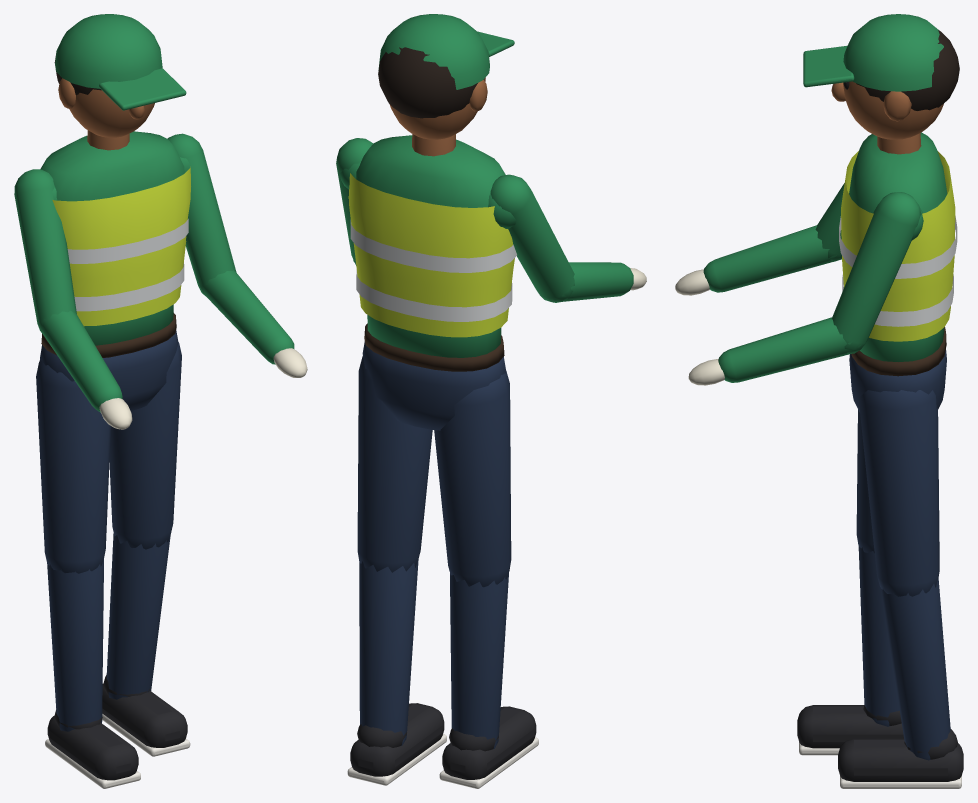
Rendered from picker_a.fbx.
The picture shows the model from 3 angles, left to right: view 1: azimuth 30°, elevation 25°; view 2: azimuth 150°, elevation 25°; view 3: azimuth 270°, elevation 25°; orthographic projection. The views are drawn at different scales.
Parts seen in each view (by area): view 1: picker_a; view 2: picker_a; view 3: picker_a.
Part boxes in pixels (x1,y1,x2,y2): picker_a: (14, 14, 307, 788); picker_a: (336, 14, 646, 788); picker_a: (675, 14, 963, 788).
Size of the model in its own units: 0.531 by 1.76 by 0.6201.
